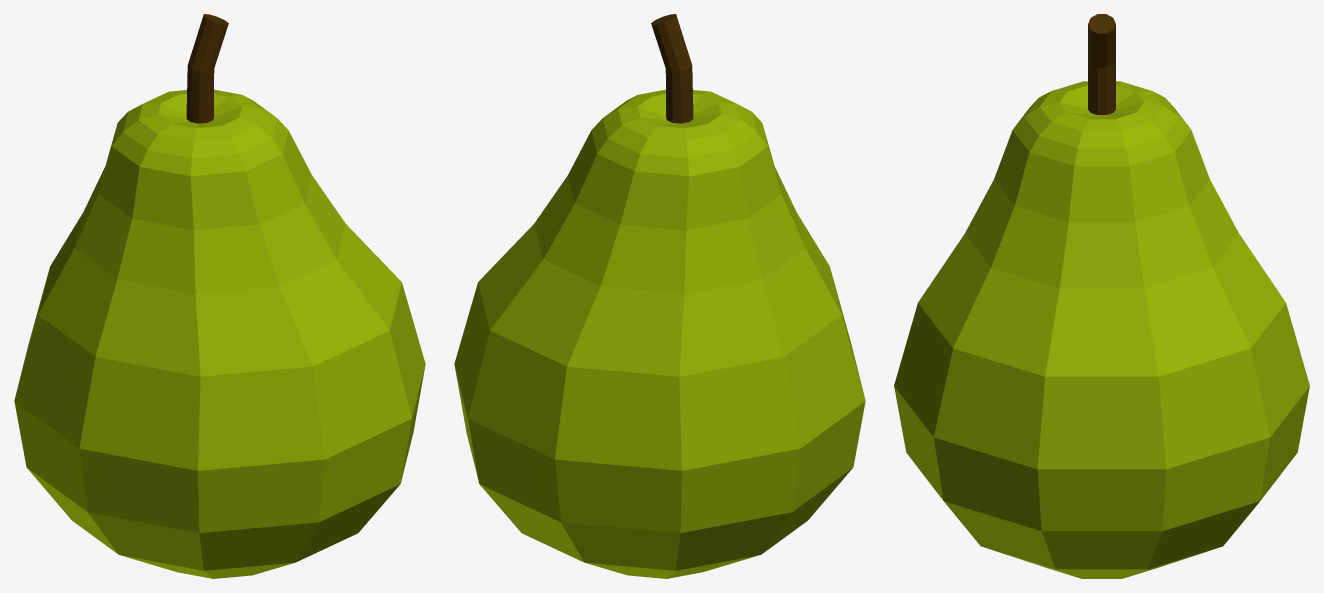
Rendered from Ma_Fruit_Pear.fbx.
3 views of the same model, side by side, from view 1: azimuth 30°, elevation 25°; view 2: azimuth 150°, elevation 25°; view 3: azimuth 270°, elevation 25° (orthographic).
Parts seen in each view (by area): view 1: Ma_Fruit_Pear; view 2: Ma_Fruit_Pear; view 3: Ma_Fruit_Pear.
Part boxes in pixels (x1=…): Ma_Fruit_Pear: x1=14, y1=14, x2=425, y2=578; Ma_Fruit_Pear: x1=454, y1=14, x2=865, y2=578; Ma_Fruit_Pear: x1=894, y1=14, x2=1309, y2=578.
Bounding box in the file's own units: 78.65 × 82.69 × 117.
